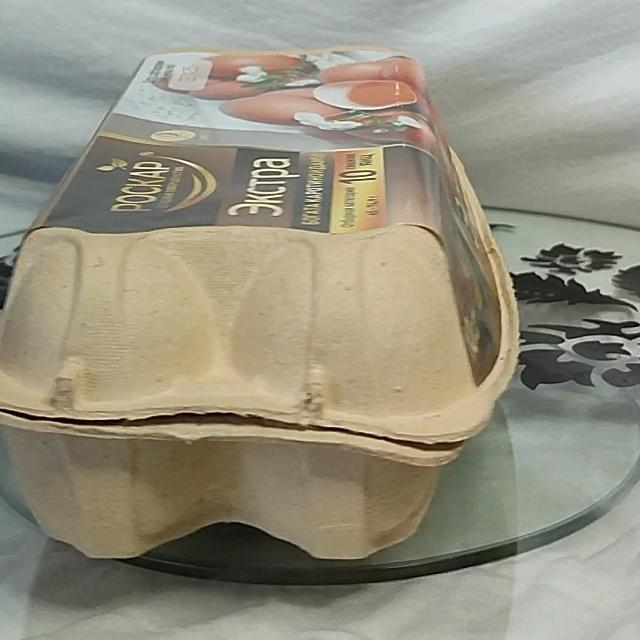egg: (0, 42, 517, 575)
